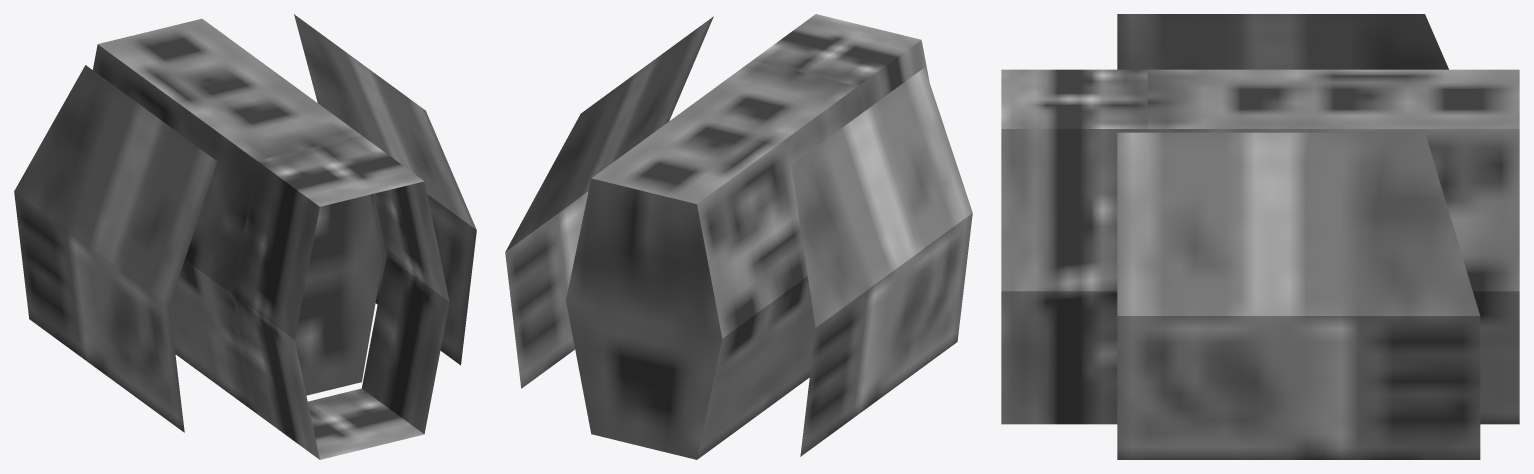
3 renders of one model, left to right at view 1: azimuth 30°, elevation 25°; view 2: azimuth 150°, elevation 25°; view 3: azimuth 270°, elevation 25°, orthographic. The views are drawn at different scales.
Parts seen in each view (by area): view 1: root; view 2: root; view 3: root.
Part boxes in pixels (x1,y1,x2,y2): root: [14, 14, 476, 459]; root: [505, 14, 972, 459]; root: [1001, 14, 1519, 459].
Bounding box in the file's own units: 0.7168 × 0.6133 × 0.8984.
1 material, 1 textured.
